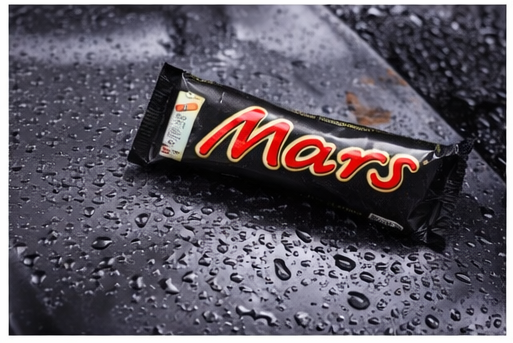MARS: (159, 44, 494, 168)
